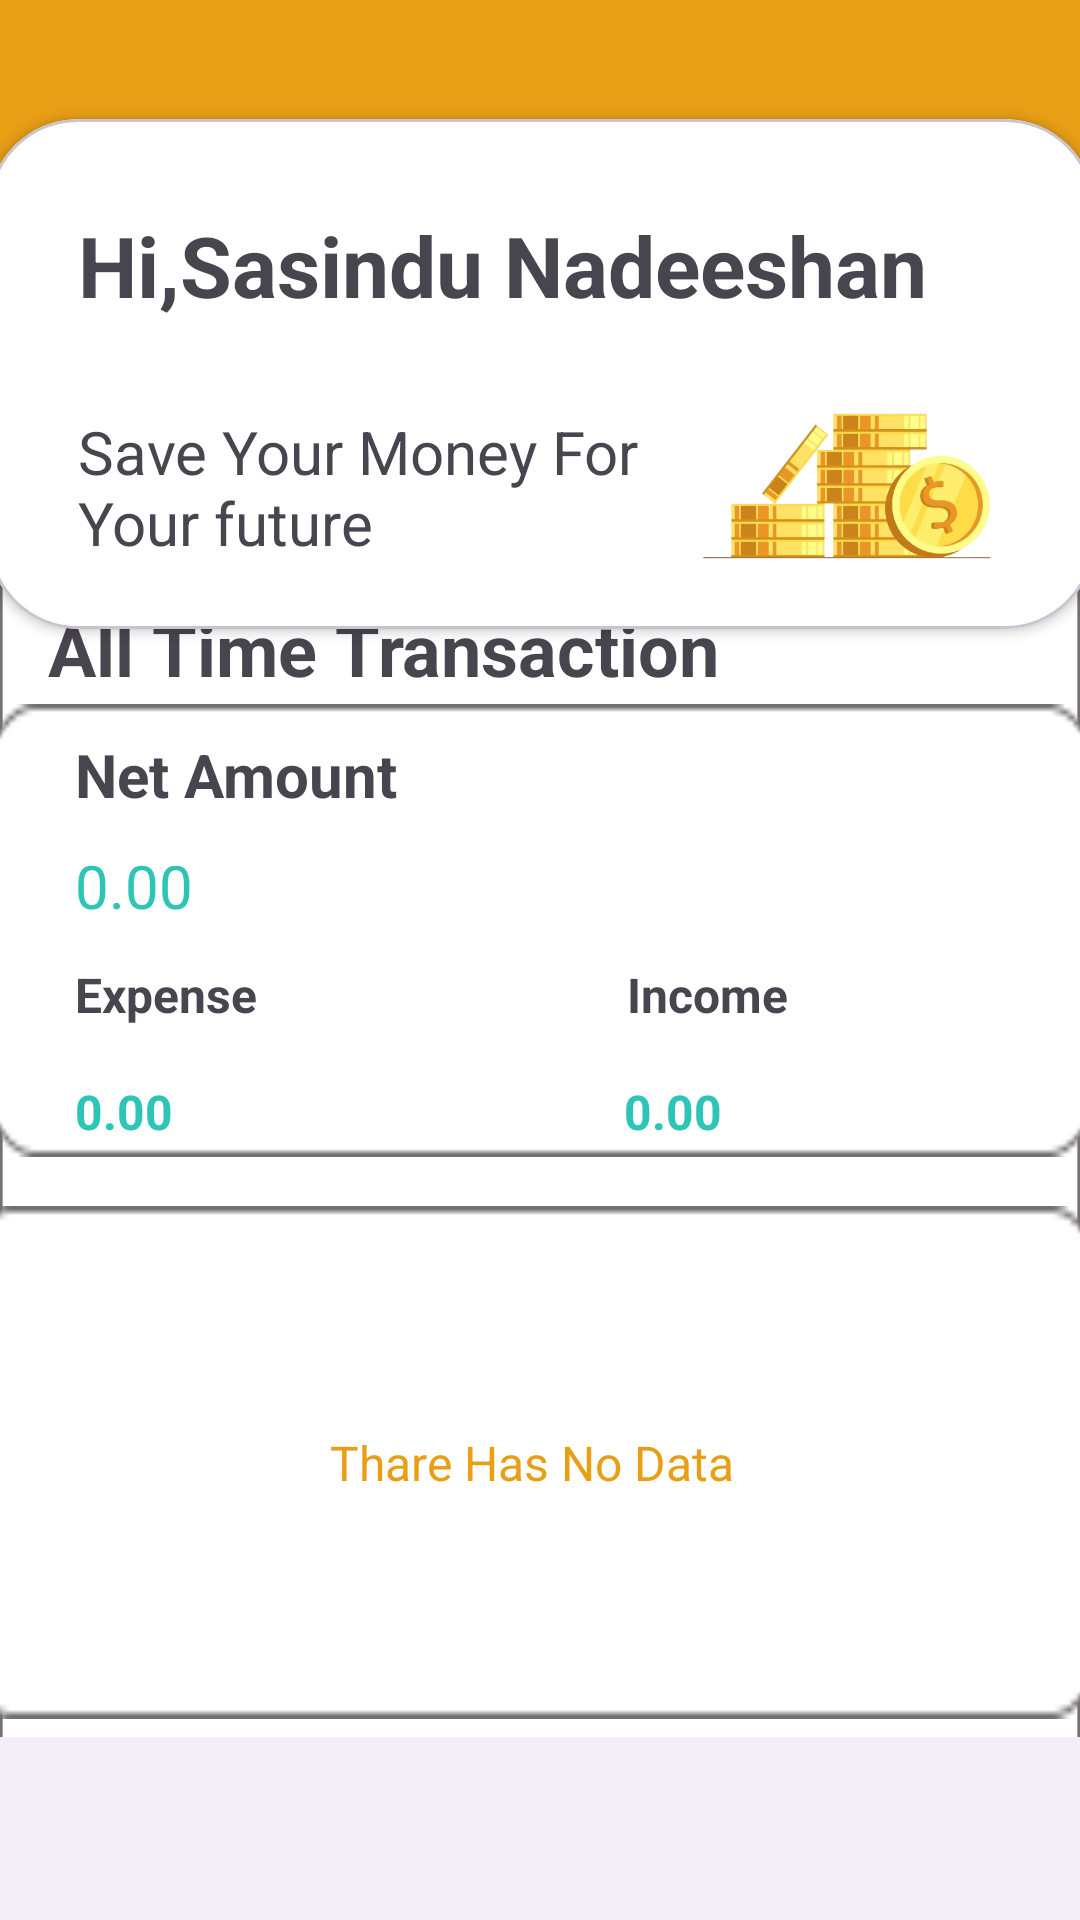

Named icons in this screenshot (1080 x 1920) and their centers, (x,y):
coin: (847,486)
